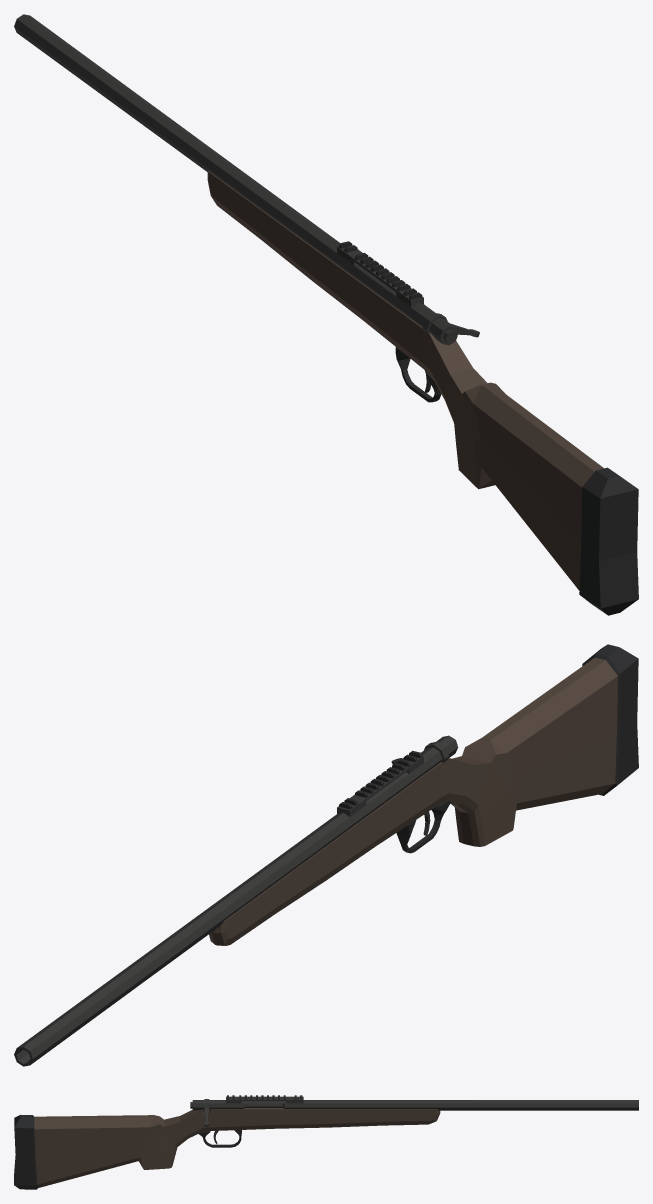
The picture shows the model from 3 angles, top to bottom: view 1: azimuth 30°, elevation 25°; view 2: azimuth 150°, elevation 25°; view 3: azimuth 270°, elevation 25°; orthographic projection. The views are drawn at different scales.
Visible parts, largest first — view 1: gun; view 2: gun, mag; view 3: gun, mag.
Part boxes in pixels (x1,y1,x2,y2): gun: (14,14,638,615); gun: (14,644,638,1066); mag: (396,801,451,853); gun: (14,1095,638,1189); mag: (198,1129,241,1147).
Size of the model in its own units: 0.0681 by 0.182 by 1.12.
